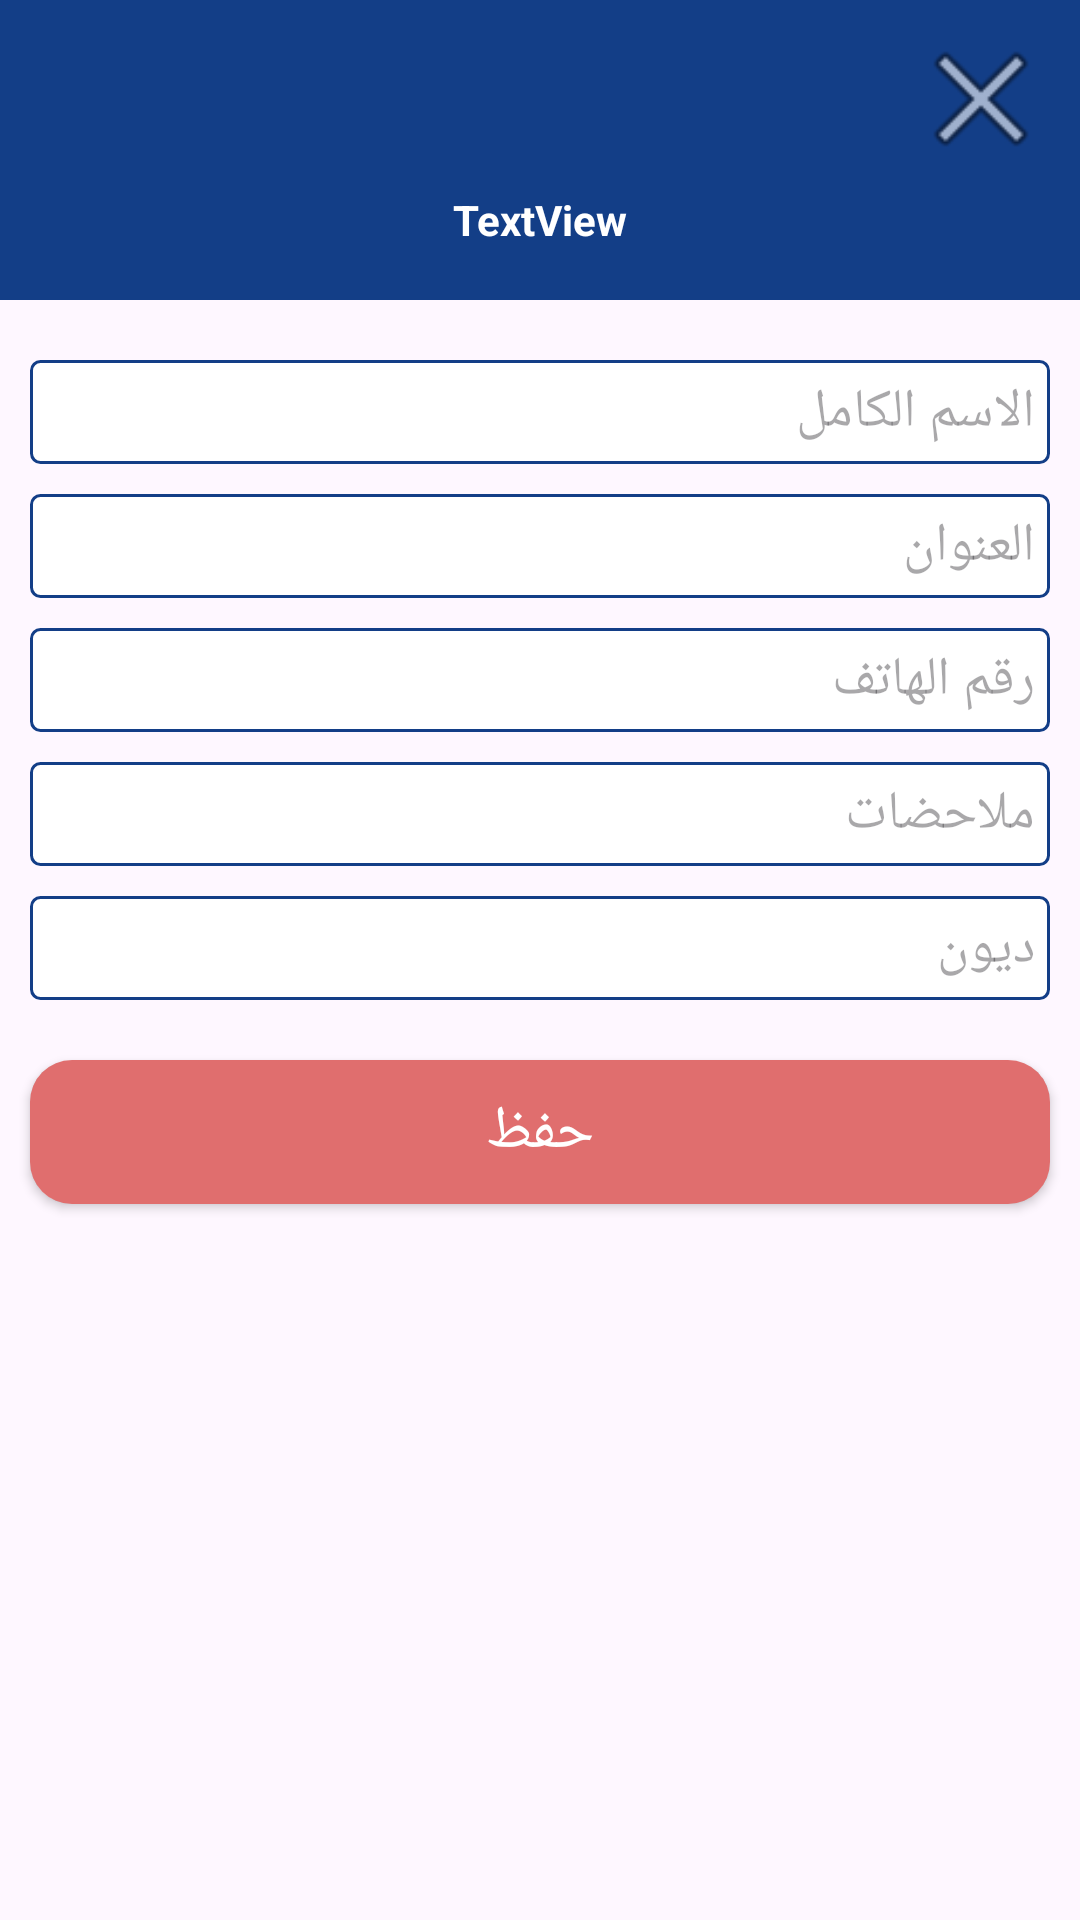

Icon click points for this 1080px x 1920px phone screenshot, format (x,y):
close clear cancel: (981,99)
